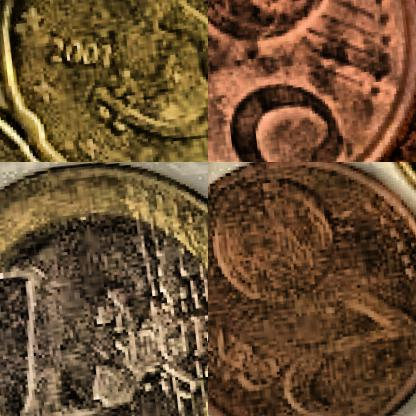coin: (0, 162, 207, 415), (208, 162, 415, 415), (0, 0, 207, 161), (208, 0, 415, 161)
